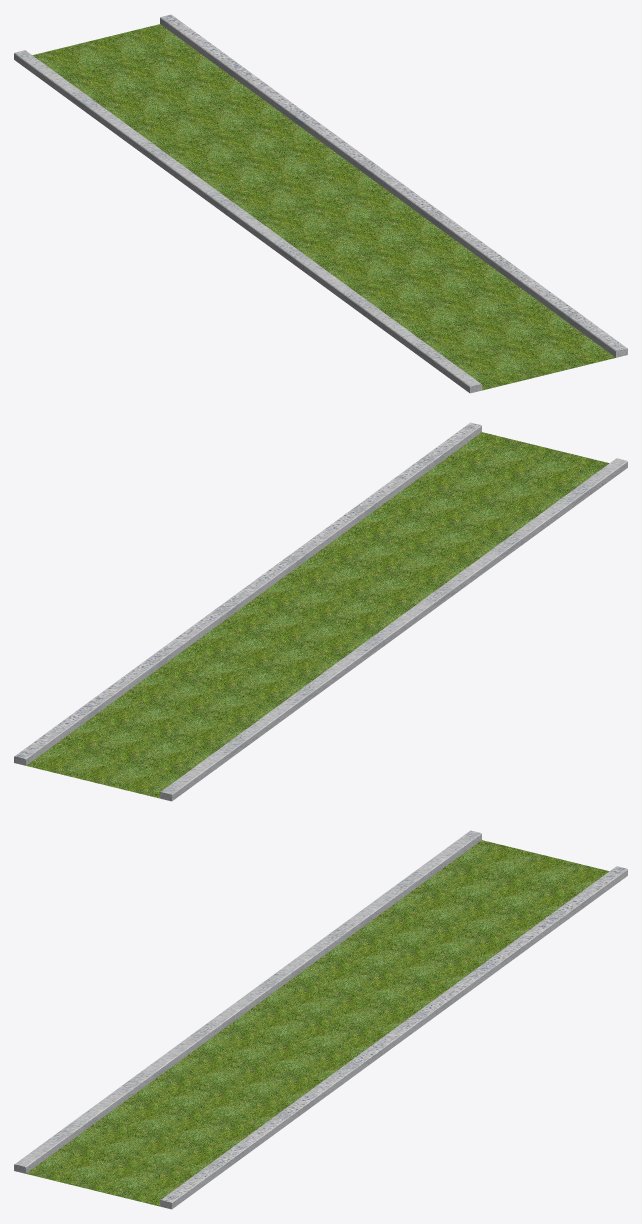
Rendered from Plate_Meadow-FBX.fbx.
The picture shows the model from 3 angles, top to bottom: view 1: azimuth 30°, elevation 25°; view 2: azimuth 150°, elevation 25°; view 3: azimuth 330°, elevation 25°; orthographic projection.
Visible parts, largest first — view 1: Plate_Meadow; view 2: Plate_Meadow; view 3: Plate_Meadow.
Boxes of the visible parts, x1,y1,x2,y2 form: Plate_Meadow: (14, 14, 627, 393); Plate_Meadow: (14, 422, 627, 801); Plate_Meadow: (14, 830, 627, 1209).
Bounding box in the file's own units: 300 × 12.38 × 1500.
